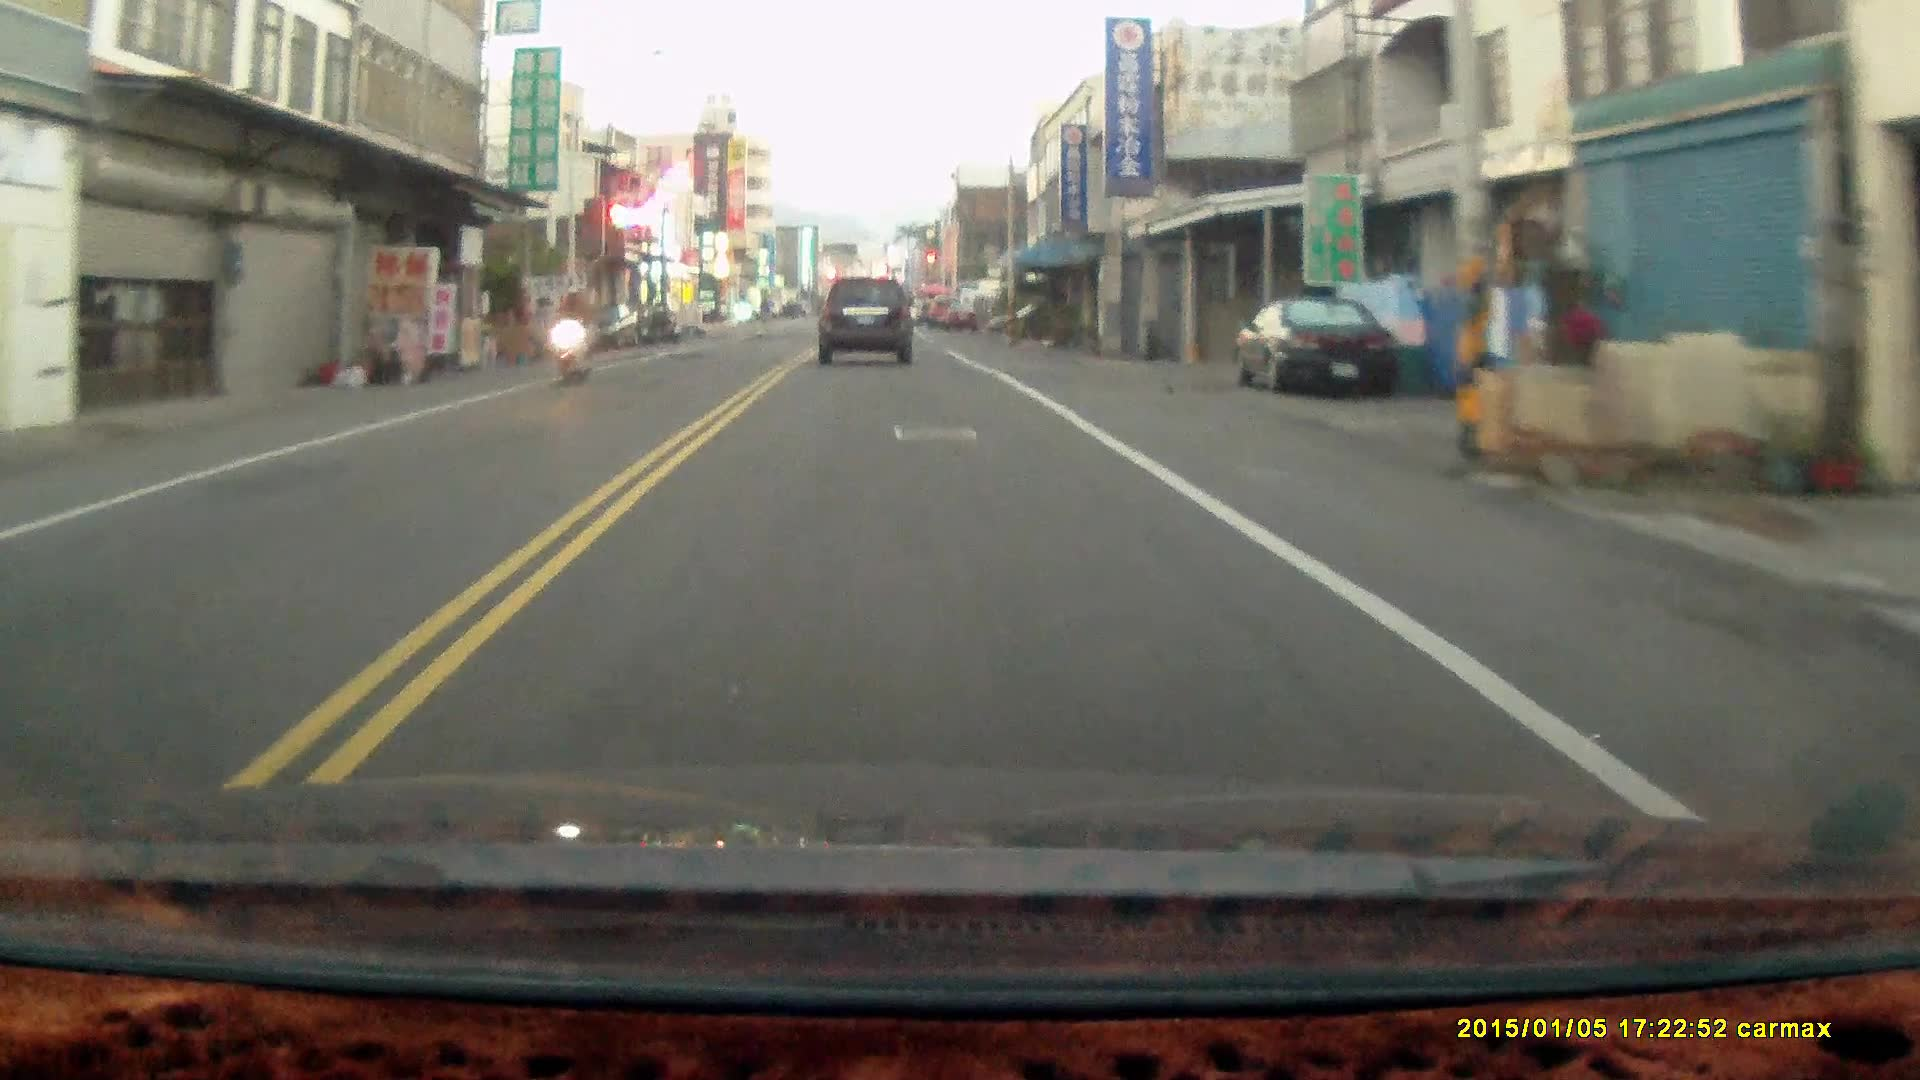rider: (548, 282, 597, 385)
vehicle: (1236, 293, 1405, 398), (818, 274, 916, 362)
